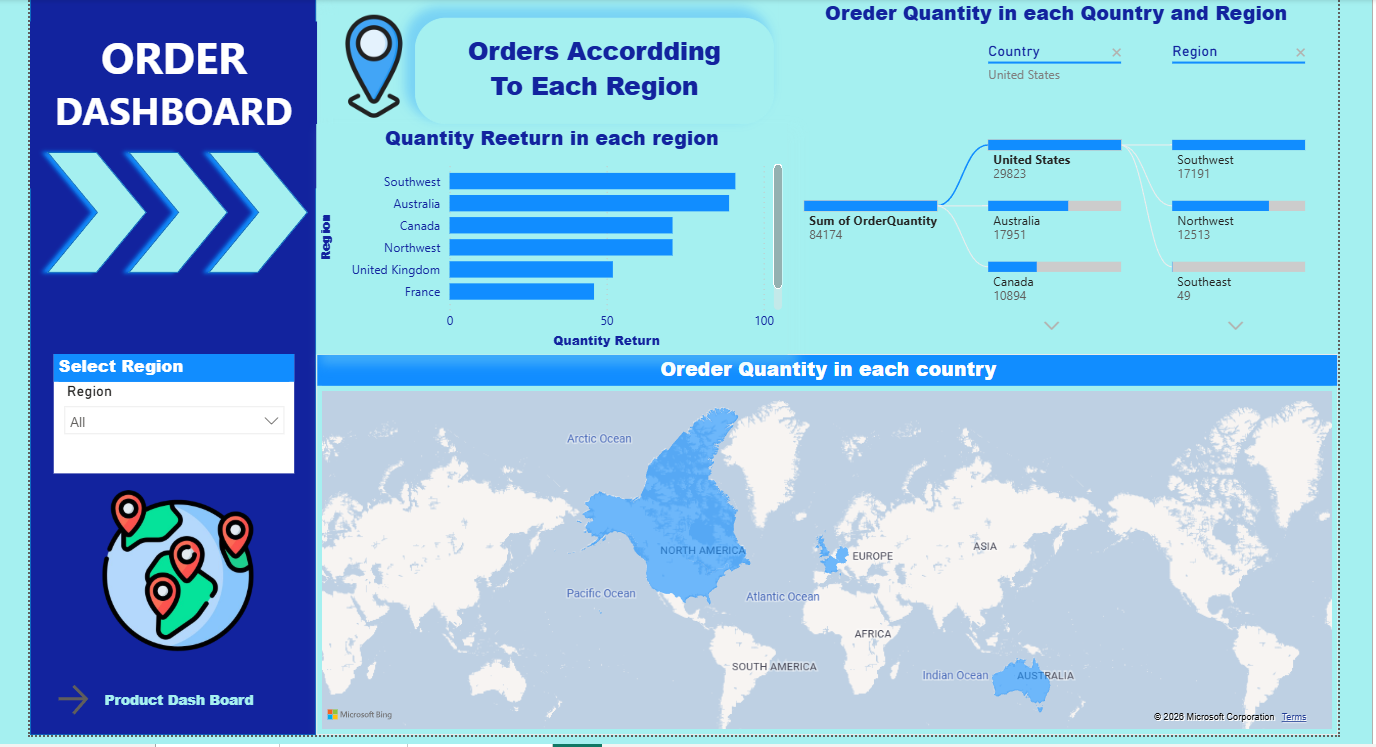

The dashboard page shown, as its layout file describes it:
{"tool":"powerbi","page":{"name":"order_Dash","canvas":[1280,720],"ordinal":1},"visuals":[{"type":"shape","box":[0,0,279.9,720.2],"z":0},{"type":"textbox","box":[0,21.7,281.1,162.9],"z":1000},{"type":"filledMap","title":"Oreder Quantity in each country","fields":{"Category":["Territories.Country"]},"box":[279.9,347.5,1000.1,372.8],"z":2000},{"type":"decompositionTreeVisual","title":"Oreder Quantity in each Qountry and Region ","fields":{"ExplainBy":["Territories.Country","Territories.Region"],"Analyze":["Sum(sales.OrderQuantity)"]},"box":[727.5,0,552.5,347.5],"z":3000},{"type":"clusteredBarChart","title":"Quantity Reeturn in each region ","fields":{"Category":["Territories.Region"],"Y":["Dax_measure.Quantity Return"]},"box":[279.9,121.9,460.9,225.6],"z":4000},{"type":"actionButton","box":[21.7,664.7,201.5,39.8],"z":5000},{"type":"shape","box":[165.3,141.2,115.8,136.3],"z":6000},{"type":"shape","box":[86.9,141.2,115.8,136.3],"z":7000},{"type":"shape","box":[7.2,141.2,115.8,136.3],"z":8000},{"type":"slicer","title":"Select Region","fields":{"Values":["Territories.Region"]},"box":[22.9,347.5,235.3,117],"z":9000},{"type":"image","box":[281.1,9.7,111,112.2],"z":10000},{"type":"textbox","box":[376.4,18.1,351.1,103.8],"z":11000},{"type":"image","box":[61.5,472.9,167.7,172.5],"z":11001}]}

Visuals, with their boxes on the page's 1280x720 design canvas (x1, y1, x2, y2). These are canvas units, not pixel positions in the 1376x747 screenshot, which may show the page scaled, cropped or inside an application window:
shape: rect(0, 0, 280, 720)
textbox: rect(0, 22, 281, 185)
"Oreder Quantity in each country" filledMap: rect(280, 348, 1280, 720)
"Oreder Quantity in each Qountry and Region " decompositionTreeVisual: rect(728, 0, 1280, 348)
"Quantity Reeturn in each region " clusteredBarChart: rect(280, 122, 741, 348)
actionButton: rect(22, 665, 223, 704)
shape: rect(165, 141, 281, 278)
shape: rect(87, 141, 203, 278)
shape: rect(7, 141, 123, 278)
"Select Region" slicer: rect(23, 348, 258, 464)
image: rect(281, 10, 392, 122)
textbox: rect(376, 18, 728, 122)
image: rect(62, 473, 229, 645)
